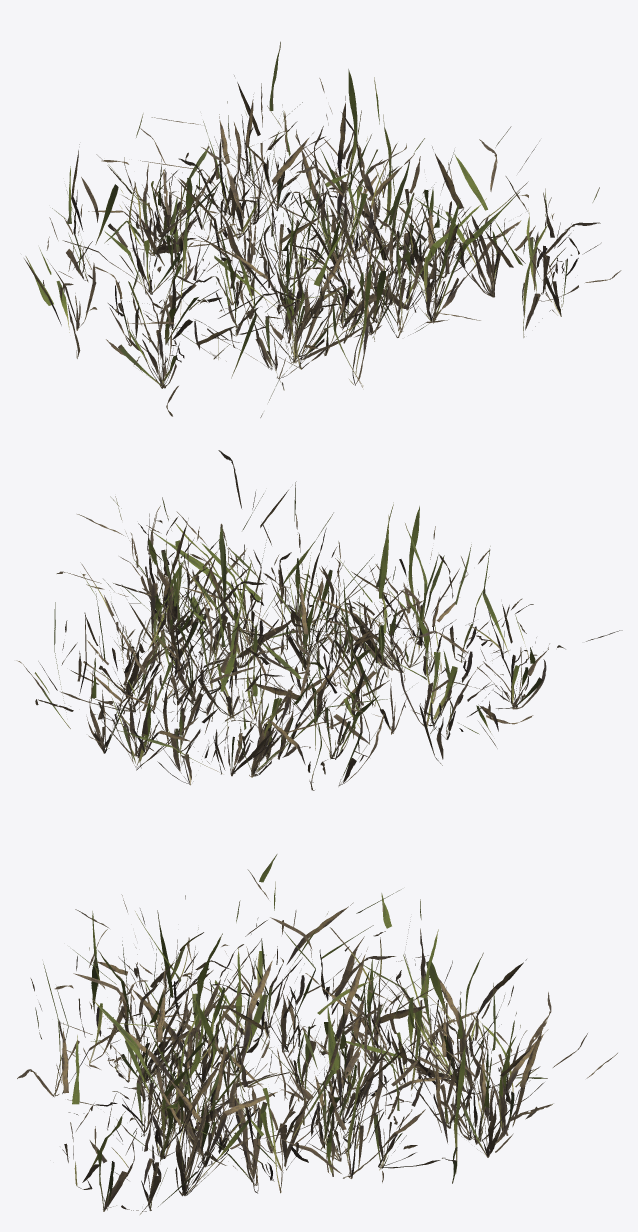
Rendered from grass_clumps_rbdoo.gltf.
The picture shows the model from 3 angles, top to bottom: view 1: azimuth 30°, elevation 25°; view 2: azimuth 150°, elevation 25°; view 3: azimuth 270°, elevation 25°; orthographic projection. The views are drawn at different scales.
Parts seen in each view (by area): view 1: SM_rbdoo_VarA, SM_rbdoo_VarC, SM_rbdoo_VarB; view 2: SM_rbdoo_VarA, SM_rbdoo_VarC, SM_rbdoo_VarB; view 3: SM_rbdoo_VarA, SM_rbdoo_VarB, SM_rbdoo_VarC.
Part boxes in pixels (x1,y1,x2,y2): SM_rbdoo_VarA: (24,69,600,416); SM_rbdoo_VarC: (113,41,621,389); SM_rbdoo_VarB: (49,83,554,417); SM_rbdoo_VarA: (16,450,622,790); SM_rbdoo_VarC: (82,505,499,774); SM_rbdoo_VarB: (56,513,533,786); SM_rbdoo_VarA: (17,854,587,1211); SM_rbdoo_VarB: (35,893,548,1214); SM_rbdoo_VarC: (30,894,617,1211).
Size of what is drawn, in the model's own units: 0.6835 by 0.2742 by 0.6635.
Materials: 1 (1 with a texture image).
